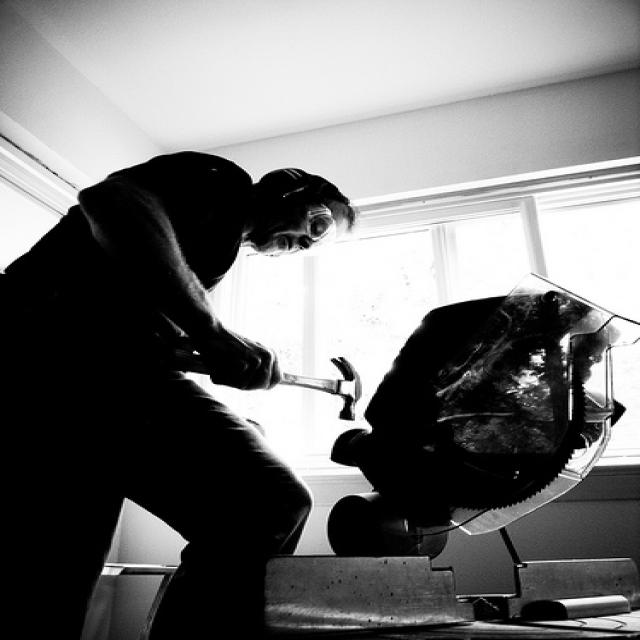hammer: (262, 341, 408, 440)
